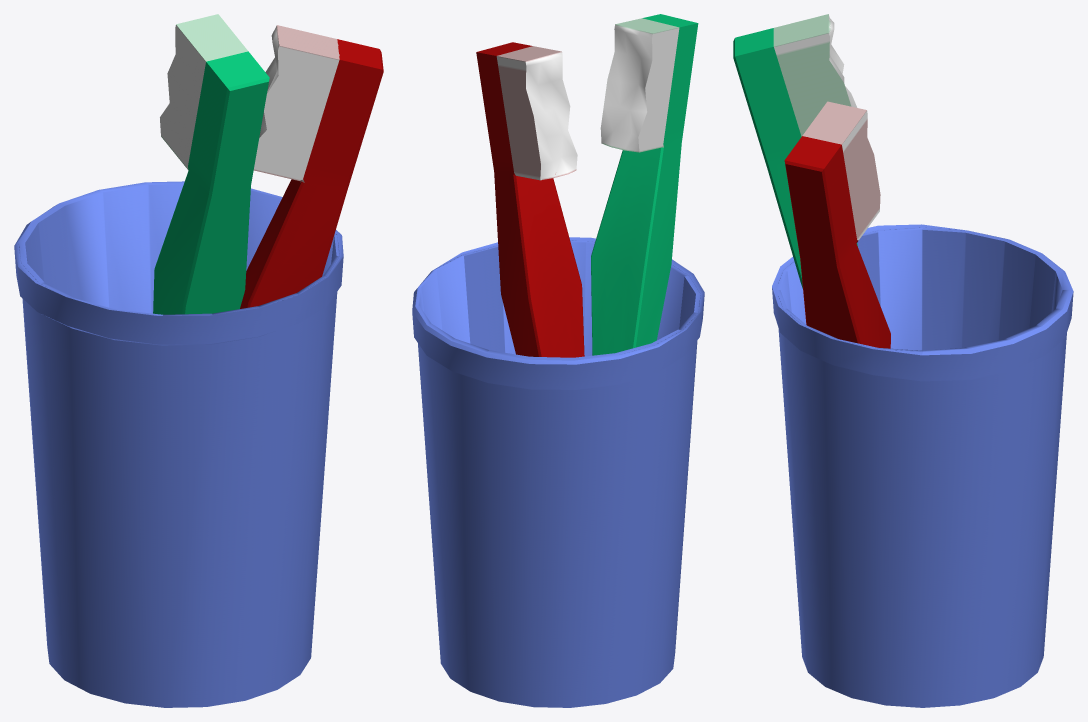
File: ToothBrush_CUp.fbx
3 views of the same model, side by side, from view 1: azimuth 30°, elevation 25°; view 2: azimuth 150°, elevation 25°; view 3: azimuth 270°, elevation 25° (orthographic). The views are drawn at different scales.
Visible parts, largest first — view 1: Cup, TB1, TB2; view 2: Cup, TB1, TB2; view 3: Cup, TB2, TB1.
Boxes of the visible parts, x1,y1,x2,y2 form: Cup: [14, 181, 343, 707]; TB1: [153, 14, 269, 314]; TB2: [240, 25, 383, 308]; Cup: [412, 237, 704, 707]; TB1: [591, 14, 698, 355]; TB2: [476, 42, 584, 357]; Cup: [772, 224, 1073, 707]; TB2: [784, 101, 890, 348]; TB1: [733, 14, 857, 288].
Bounding box in the file's own units: 14.95 × 33.34 × 16.62.
3 materials, 3 textured.
